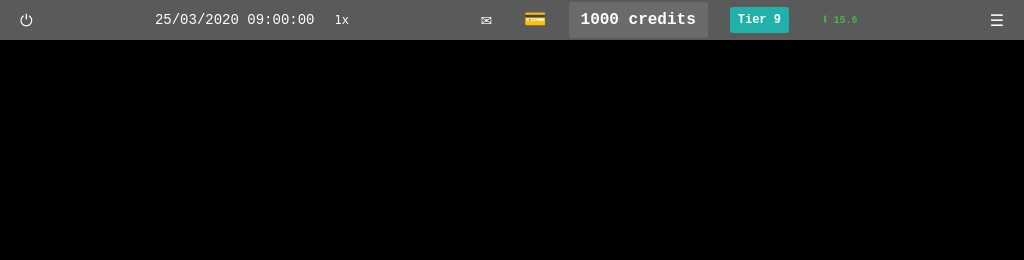
Test case: Notification System Integration › should show bandwidth usage preview on hover with active operations
Expected: the icon with class "bandwidth-icon" reads "⬇", [821,12,829,28]
Expected: the text "15.6" is shown, [833,12,857,28]
Hover to show preview
Hover over the element with class "topbar-bandwidth" at (839, 20), box [821,12,858,28]
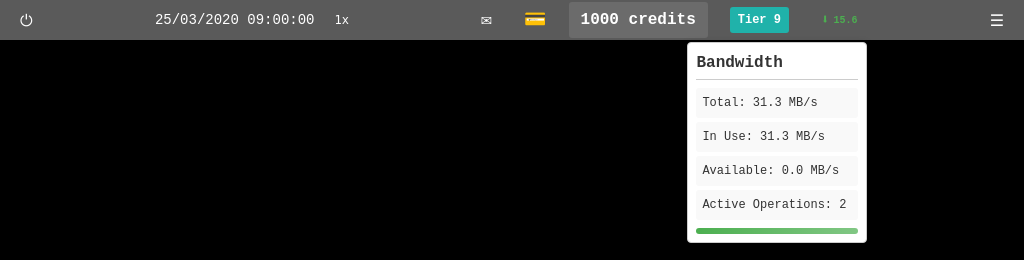
Expected: the text "Bandwidth" is shown, [696,50,858,80]
Expected: the text "Total: 31.3 MB/s" is shown, [696,88,858,118]
Expected: the text "In Use: 31.3 MB/s" is shown, [696,122,858,152]
